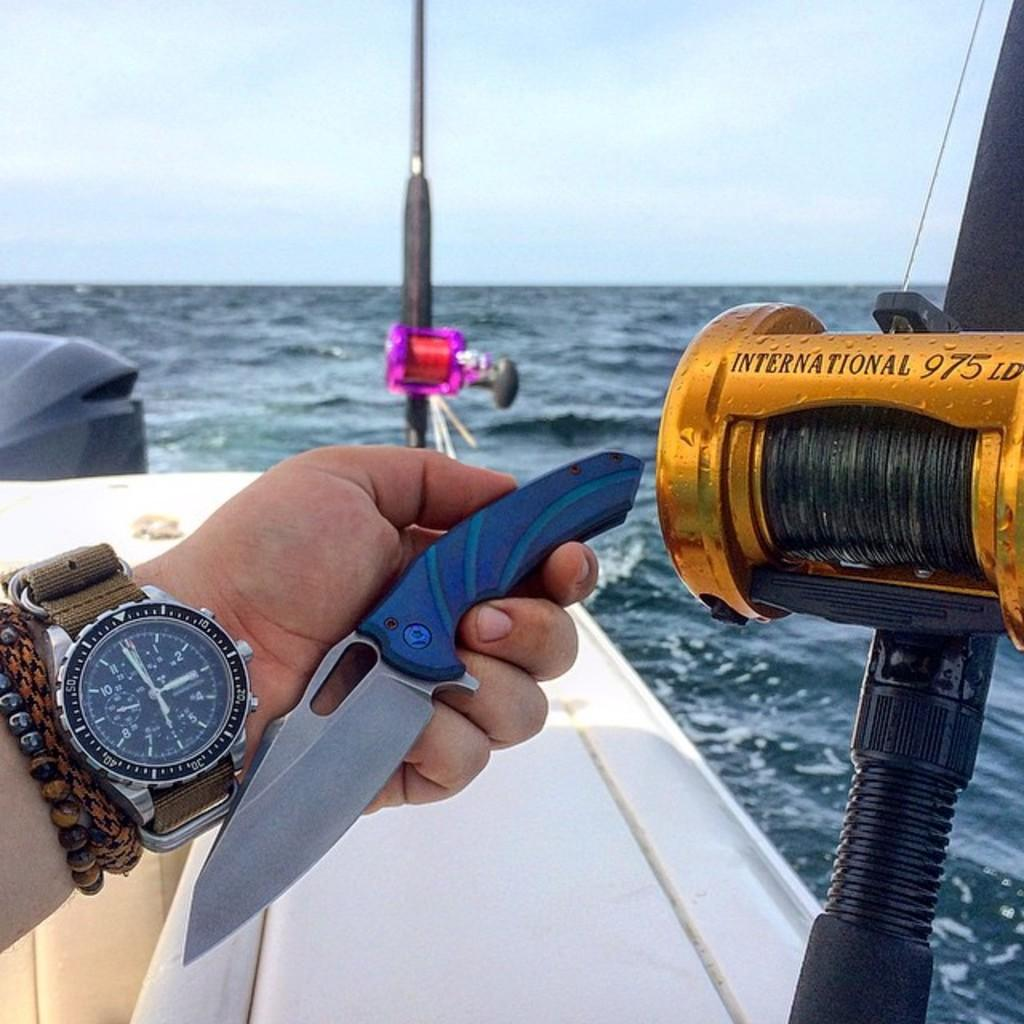Knife: (179, 440, 653, 966)
